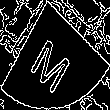M_NE: (30, 20, 80, 90)
